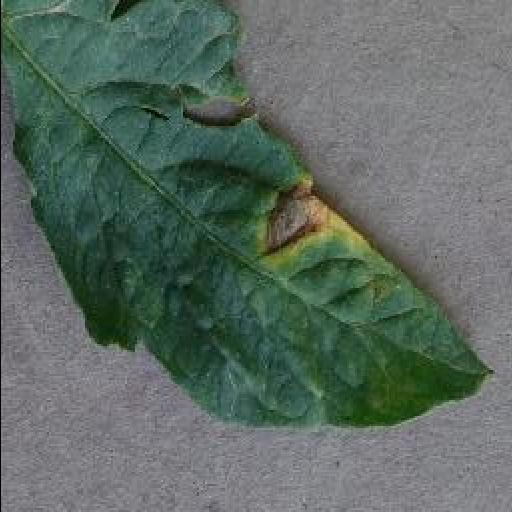disease_tomato: (0, 0, 498, 427)
